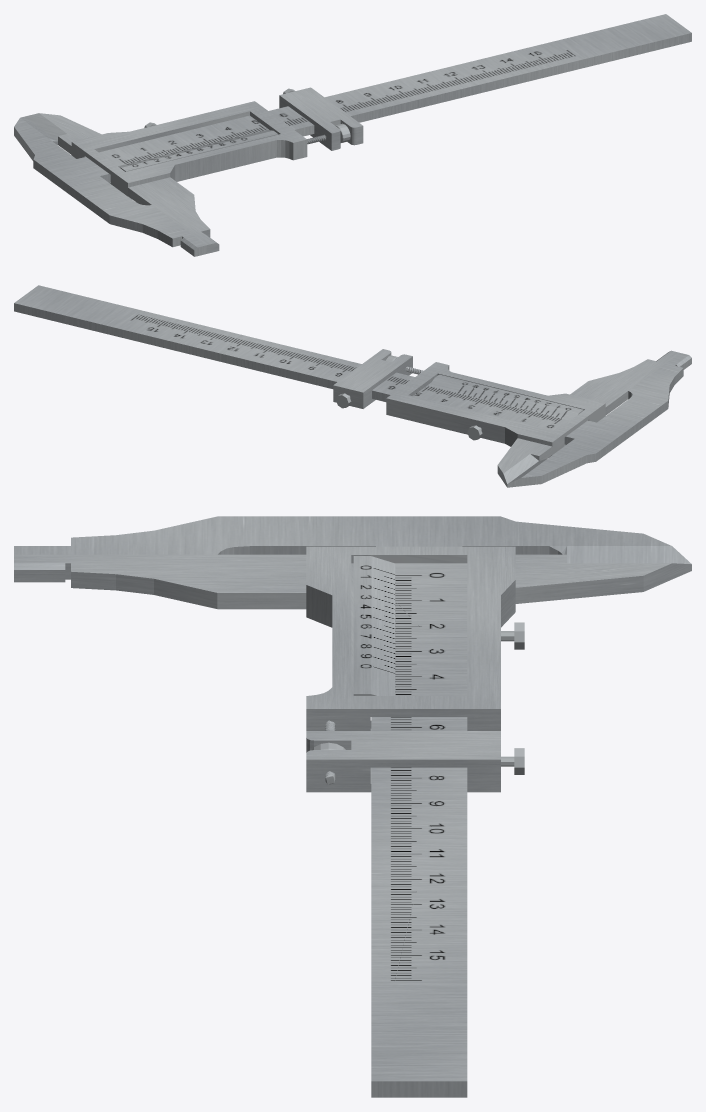
Rendered from caliper.fbx.
3 renders of one model, top to bottom at view 1: azimuth 30°, elevation 25°; view 2: azimuth 150°, elevation 25°; view 3: azimuth 270°, elevation 25°, orthographic. The views are drawn at different scales.
Visible parts, largest first — view 1: ruler, clip, nonius; view 2: ruler, clip, nonius; view 3: ruler, clip, nonius.
Part boxes in pixels (x1=…): ruler: x1=14, y1=14, x2=691, y2=256; clip: x1=24, y1=87, x2=363, y2=253; nonius: x1=118, y1=130, x2=278, y2=171; ruler: x1=14, y1=285, x2=691, y2=487; clip: x1=333, y1=349, x2=679, y2=487; nonius: x1=429, y1=374, x2=583, y2=420; ruler: x1=14, y1=516, x2=691, y2=1097; clip: x1=14, y1=546, x2=691, y2=792; nonius: x1=353, y1=556, x2=395, y2=695.
Size of the model in its own units: 223 by 6 by 113.
